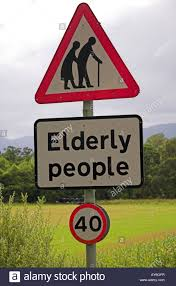Speed_limit_40km: (68, 204, 110, 245)
